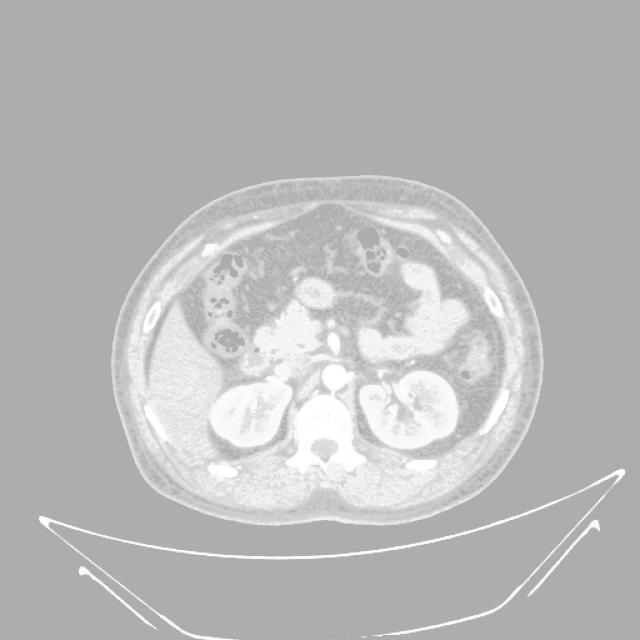NORMAL: (88, 165, 550, 524)
